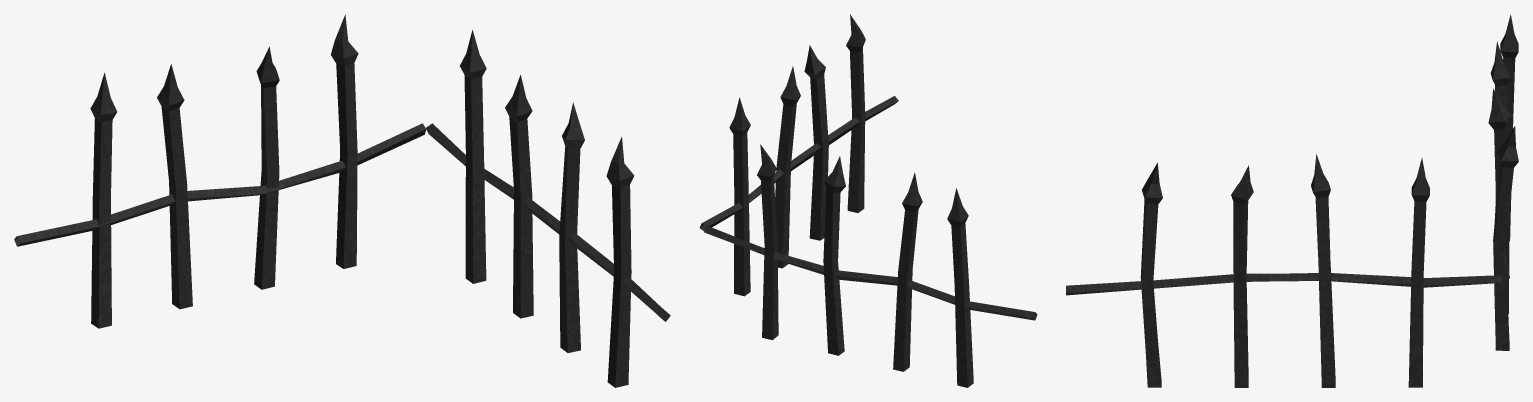
The model's file is CornerSpikes.dae.
The picture shows the model from 3 angles, left to right: view 1: azimuth 30°, elevation 25°; view 2: azimuth 150°, elevation 25°; view 3: azimuth 270°, elevation 25°; orthographic projection. The views are drawn at different scales.
Visible parts, largest first — view 1: CornerSpikes; view 2: CornerSpikes; view 3: CornerSpikes.
Boxes of the visible parts, x1=… form: CornerSpikes: x1=14, y1=14, x2=670, y2=387; CornerSpikes: x1=699, y1=14, x2=1037, y2=387; CornerSpikes: x1=1066, y1=14, x2=1518, y2=387.
Size of what is drawn, in the model's own units: 520 by 289 by 520.
